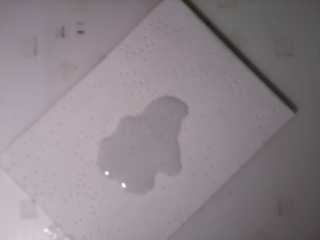Water_detected: (107, 105, 184, 184)
